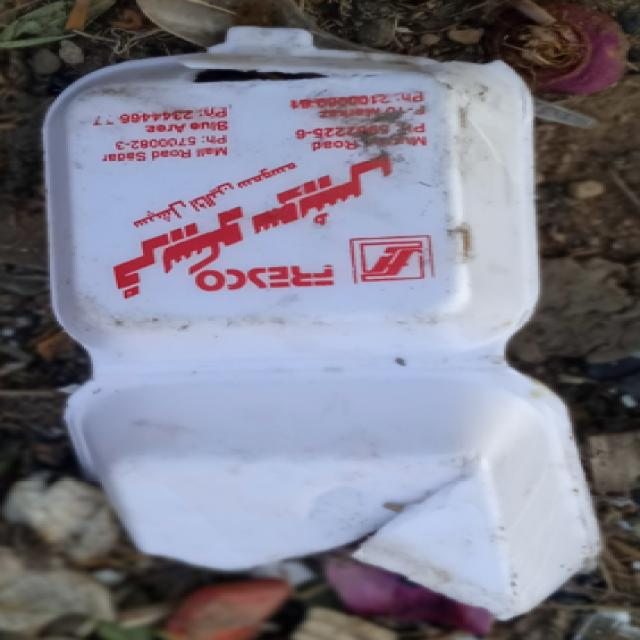electronic: (39, 25, 604, 627)
